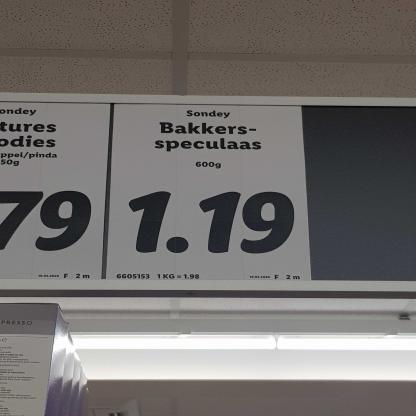prtg: (107, 104, 313, 281), (1, 103, 111, 281)
